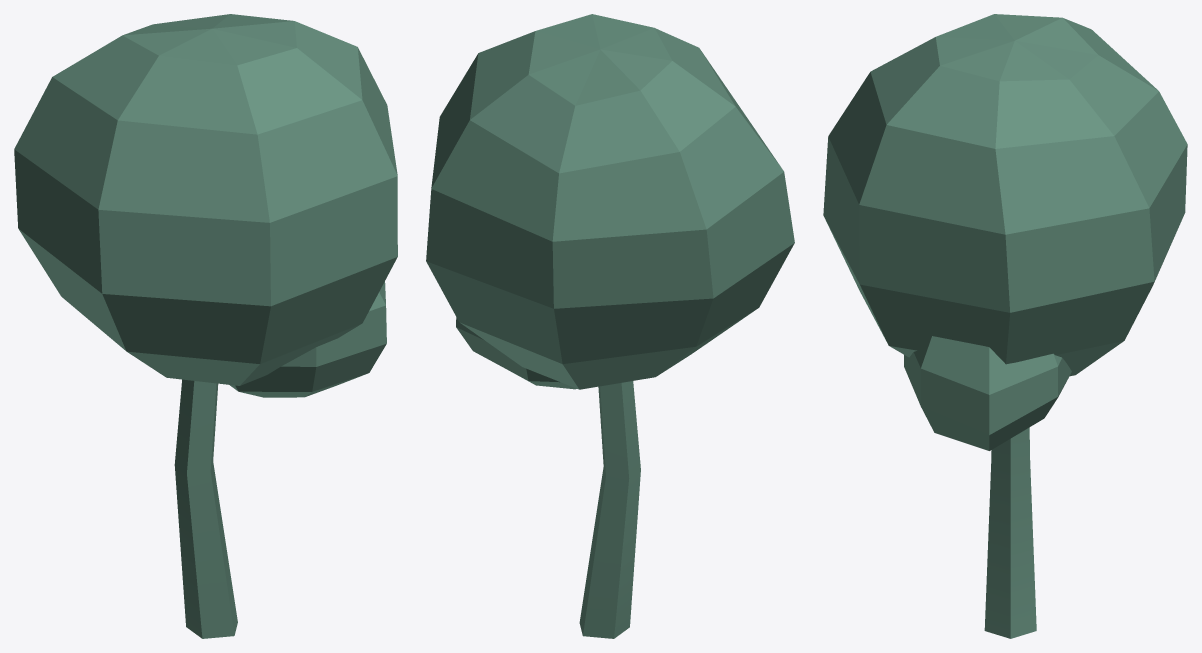
File: tree_circle.fbx
3 views of the same model, side by side, from view 1: azimuth 30°, elevation 25°; view 2: azimuth 150°, elevation 25°; view 3: azimuth 270°, elevation 25° (orthographic). The views are drawn at different scales.
Visible parts, largest first — view 1: leaves, trunk, leaves1; view 2: leaves, trunk, leaves1; view 3: leaves, leaves1, trunk.
Part boxes in pixels (x1,y1,x2,y2): leaves: (14,14,397,385); trunk: (174,379,237,638); leaves1: (230,281,386,397); leaves: (426,14,794,389); trunk: (579,381,640,638); leaves1: (456,317,576,389); leaves: (823,14,1187,376); leaves1: (904,336,1071,450); trunk: (984,427,1036,638).
Size of the model in its own units: 529 by 921 by 518.
